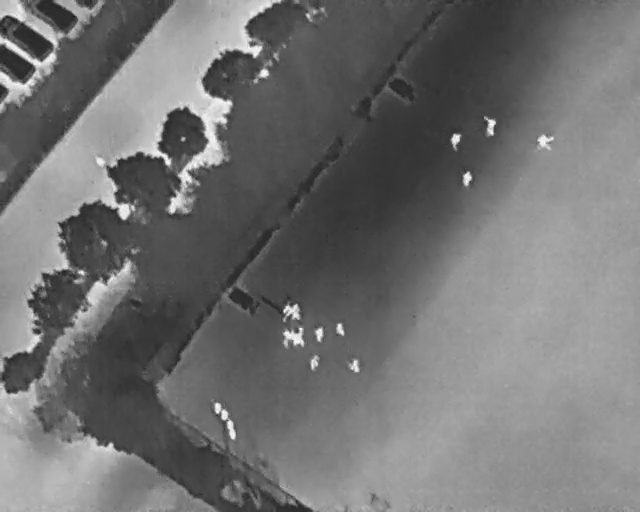Car: (0, 14, 55, 62), (18, 0, 80, 37), (0, 41, 37, 86)
Person: (290, 326, 307, 350), (481, 113, 497, 138), (277, 303, 294, 326), (536, 132, 554, 152), (449, 130, 462, 154), (307, 352, 321, 373), (461, 167, 474, 189), (289, 302, 303, 322), (281, 329, 292, 349), (348, 359, 362, 374), (315, 324, 324, 344), (334, 322, 345, 336)
